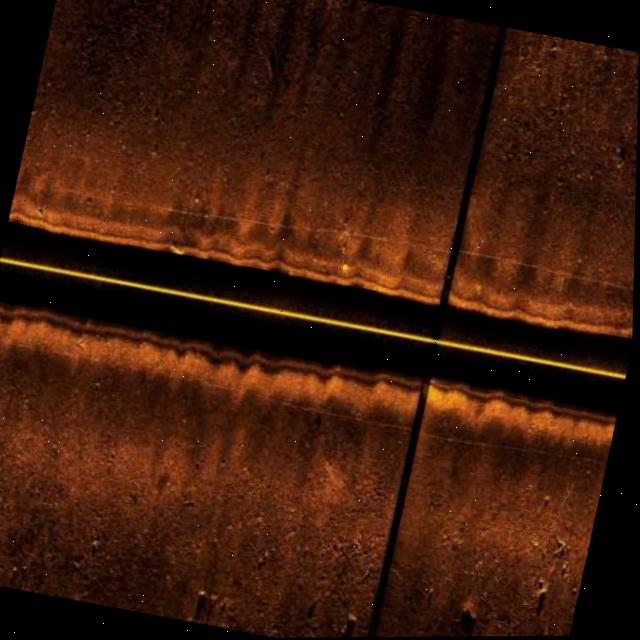mine: (262, 42, 283, 82), (167, 241, 189, 256), (196, 190, 204, 203)
other: (333, 218, 364, 259), (461, 603, 485, 637)
